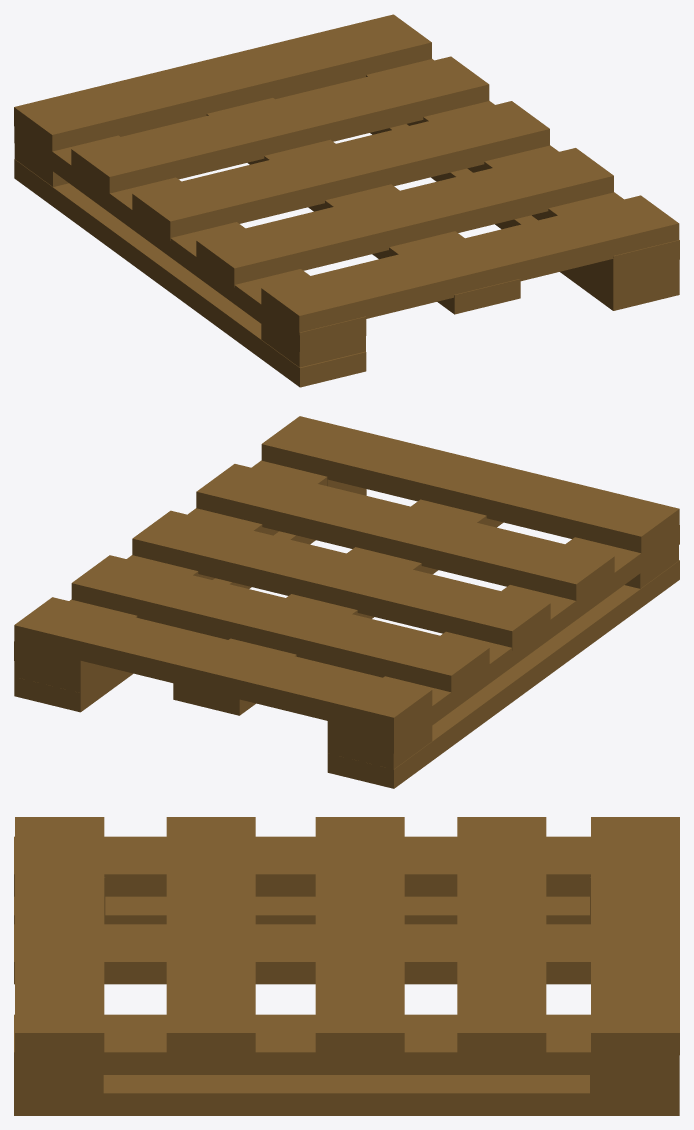
File: Palet.fbx
3 renders of one model, top to bottom at view 1: azimuth 30°, elevation 25°; view 2: azimuth 150°, elevation 25°; view 3: azimuth 270°, elevation 25°, orthographic. The views are drawn at different scales.
Parts seen in each view (by area): view 1: Cube; view 2: Cube; view 3: Cube.
Boxes of the visible parts, box(x1,y1,x2,y2) form: Cube: box(14, 14, 679, 387); Cube: box(14, 416, 679, 788); Cube: box(14, 817, 679, 1115).
Bounding box in the file's own units: 759 × 136 × 989.
